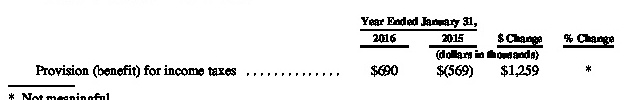table: (0, 0, 638, 100)
